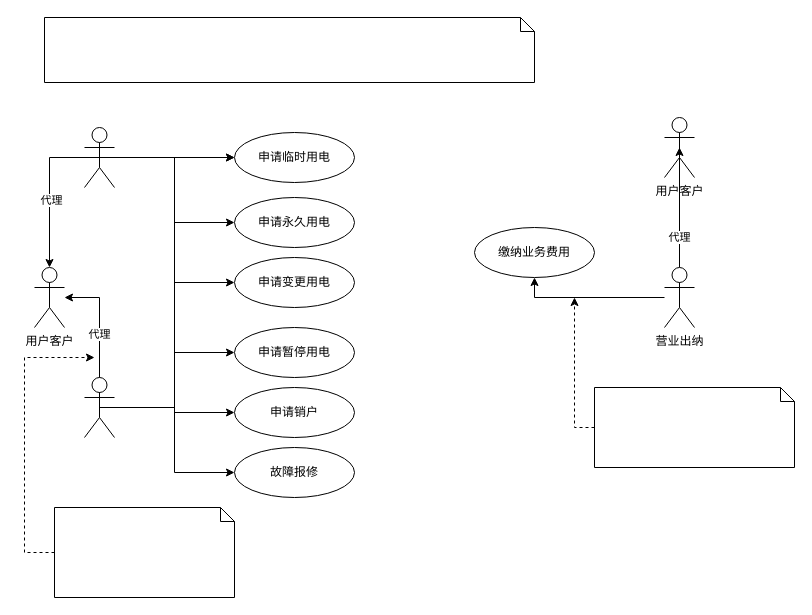
Image size: 812x615. Some labels were removed from this diagram. Each missing label, with the box of its shape:
专职检查员: (84, 126, 114, 188)
业务员: (84, 376, 114, 438)
交纳业务费本来是用户客户的事情。但这里假设的业务是用电客户去银行交费，银行提交交费记录，营业出纳将记录取回并录入系统。: (594, 386, 794, 468)
此视图展示了用电客户服务边界各业务主角为达到用户客户服务目标而在边界内要做的事情。每件事情就是一个业务用例: (44, 16, 534, 82)
申请各项业务本来是用户客户的事情。这里假设的业务是用户客户自己不直接参与系统，只填写纸质申请单，由业务员或专职检查员代理操作系统: (54, 506, 234, 598)
